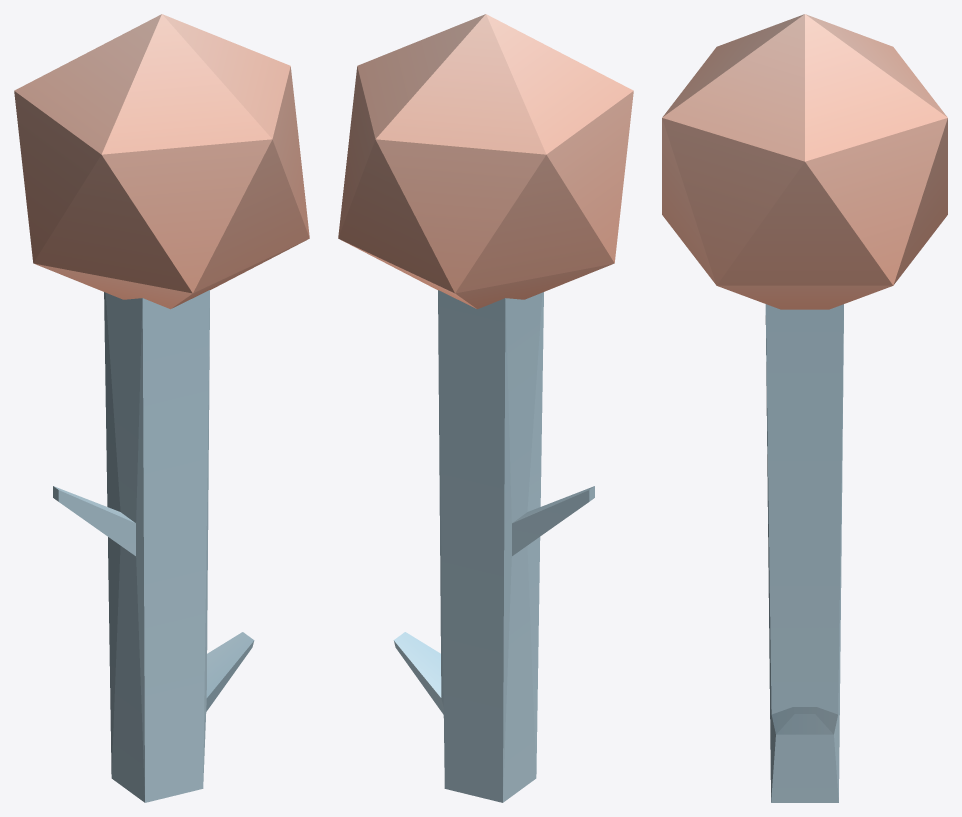
Rendered from fleure1.fbx.
3 renders of one model, left to right at view 1: azimuth 30°, elevation 25°; view 2: azimuth 150°, elevation 25°; view 3: azimuth 270°, elevation 25°, orthographic.
Visible parts, largest first — view 1: Icosphere.014, Cube.005; view 2: Icosphere.014, Cube.005; view 3: Icosphere.014, Cube.005.
Part boxes in pixels (x1,y1,x2,y2): Icosphere.014: (14, 14, 309, 309); Cube.005: (53, 290, 254, 802); Icosphere.014: (338, 14, 633, 309); Cube.005: (393, 290, 594, 802); Icosphere.014: (662, 14, 947, 309); Cube.005: (765, 304, 843, 802).
Size of the model in its own units: 0.1252 by 0.3571 by 0.1191.
Materials: 2 (2 with a texture image).
